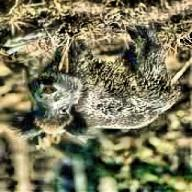boar: (9, 23, 185, 150)
